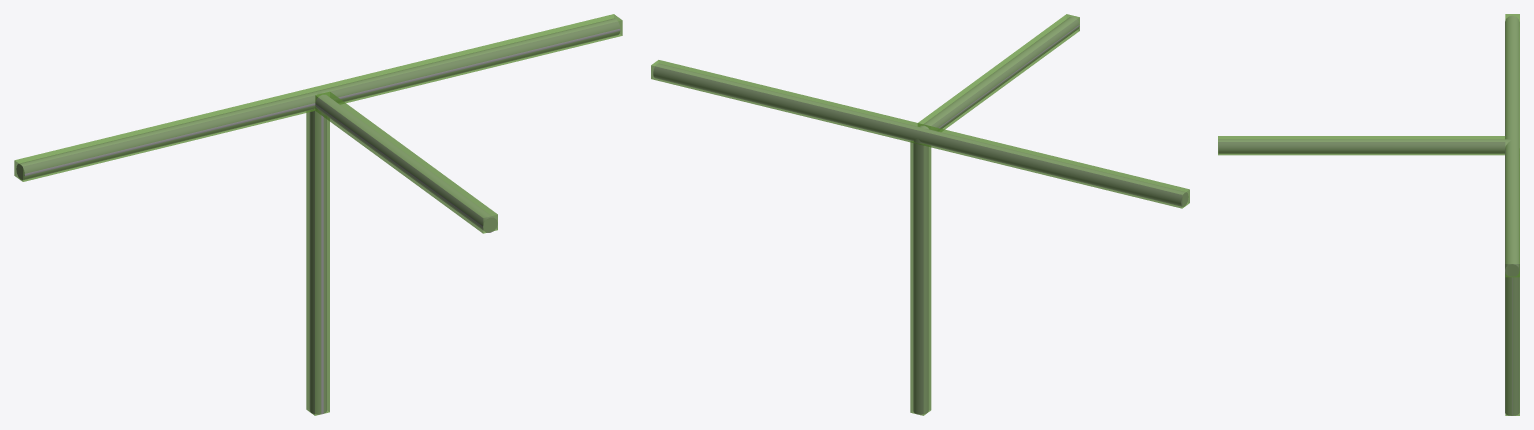
Rendered from M_md_StallBeam1_1m_01.fbx.
The picture shows the model from 3 angles, left to right: view 1: azimuth 30°, elevation 25°; view 2: azimuth 150°, elevation 25°; view 3: azimuth 270°, elevation 25°; orthographic projection. The views are drawn at different scales.
Visible parts, largest first — view 1: M_md_StallBeam1_1m_01_LOD0, M_md_StallBeam1_1m_01_col_02, M_md_StallBeam1_1m_01_col_03, M_md_StallBeam1_1m_01_col_01; view 2: M_md_StallBeam1_1m_01_LOD0, M_md_StallBeam1_1m_01_col_02, M_md_StallBeam1_1m_01_col_03, M_md_StallBeam1_1m_01_col_01; view 3: M_md_StallBeam1_1m_01_LOD0, M_md_StallBeam1_1m_01_col_01, M_md_StallBeam1_1m_01_col_02, M_md_StallBeam1_1m_01_col_03.
Boxes of the visible parts, x1,y1,x2,y2 form: M_md_StallBeam1_1m_01_LOD0: [16, 18, 620, 414]; M_md_StallBeam1_1m_01_col_02: [14, 14, 622, 181]; M_md_StallBeam1_1m_01_col_03: [306, 109, 329, 415]; M_md_StallBeam1_1m_01_col_01: [315, 91, 497, 233]; M_md_StallBeam1_1m_01_LOD0: [653, 17, 1188, 414]; M_md_StallBeam1_1m_01_col_02: [651, 60, 1189, 208]; M_md_StallBeam1_1m_01_col_03: [910, 141, 931, 415]; M_md_StallBeam1_1m_01_col_01: [918, 14, 1079, 131]; M_md_StallBeam1_1m_01_LOD0: [1218, 16, 1519, 415]; M_md_StallBeam1_1m_01_col_01: [1218, 136, 1505, 155]; M_md_StallBeam1_1m_01_col_02: [1505, 14, 1519, 277]; M_md_StallBeam1_1m_01_col_03: [1505, 277, 1519, 415].
Size of what is drawn, in the model's own units: 201 by 103 by 103.
